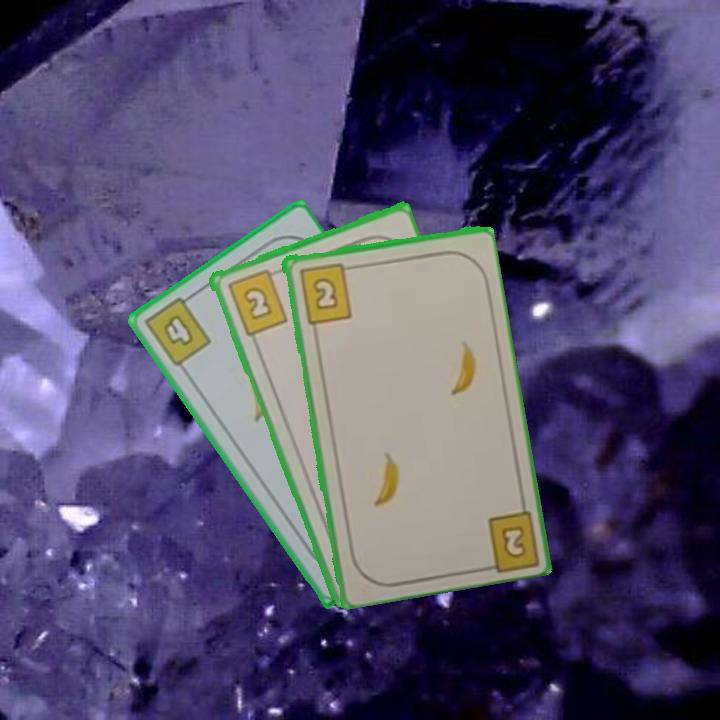2b: (223, 265, 290, 338), (295, 259, 356, 326), (497, 521, 530, 562)
4b: (140, 289, 214, 370)
